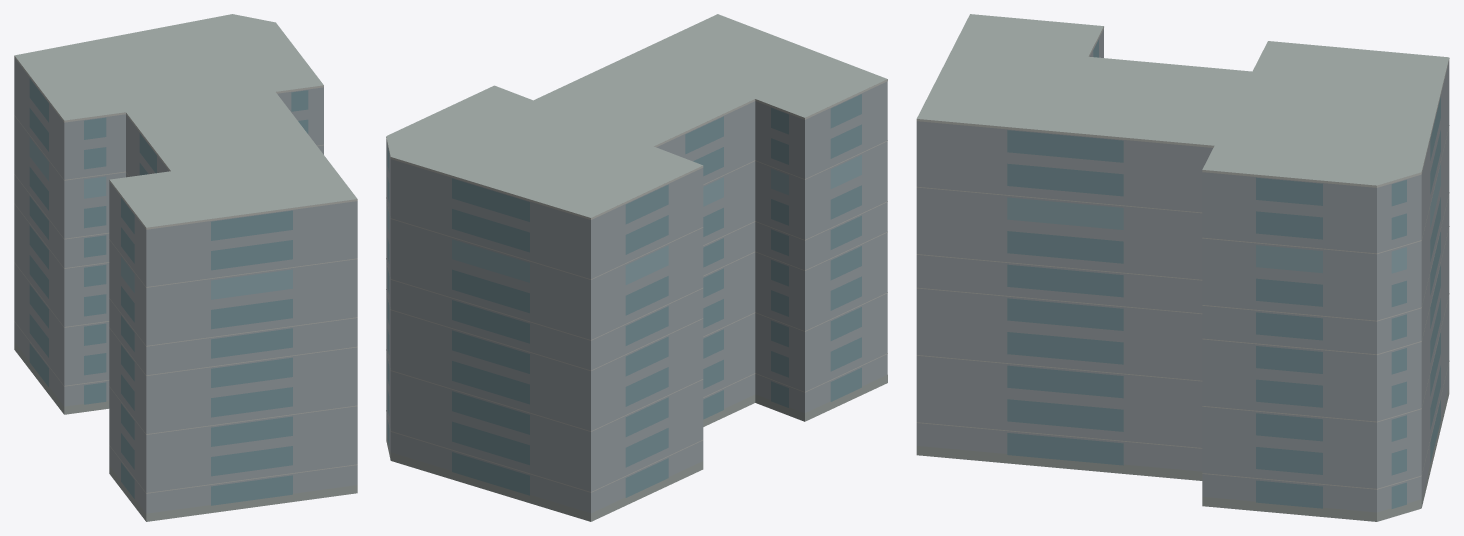
File: survey-upis-32916705.glb
3 renders of one model, left to right at view 1: azimuth 30°, elevation 25°; view 2: azimuth 150°, elevation 25°; view 3: azimuth 270°, elevation 25°, orthographic. The views are drawn at different scales.
Parts seen in each view (by area): view 1: survey-upis-32916705.tmp; view 2: survey-upis-32916705.tmp; view 3: survey-upis-32916705.tmp.
Part boxes in pixels (left/top/right/bottom): survey-upis-32916705.tmp: left=14, top=14, right=357, bottom=521; survey-upis-32916705.tmp: left=386, top=14, right=887, bottom=521; survey-upis-32916705.tmp: left=916, top=14, right=1449, bottom=521.
Size of the model in its own units: 38.38 by 35.06 by 50.35.
